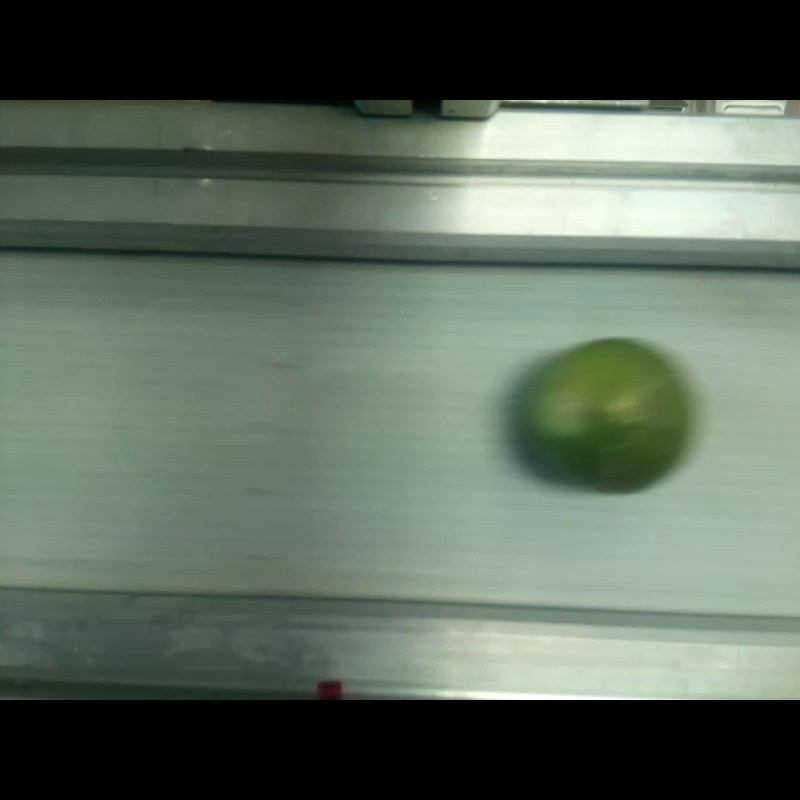lime: (519, 338, 683, 488)
